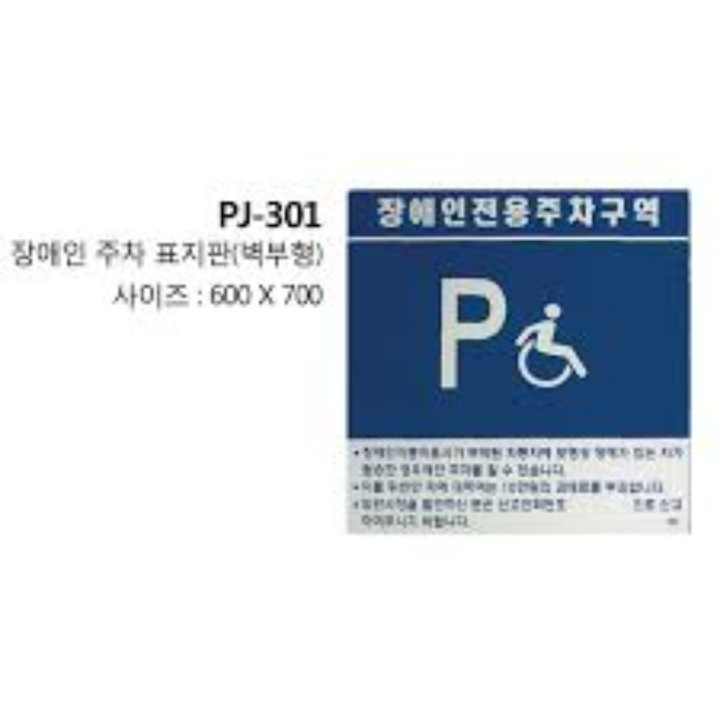parking: (436, 272, 506, 393)
